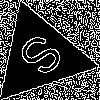S: (15, 30, 74, 86)
